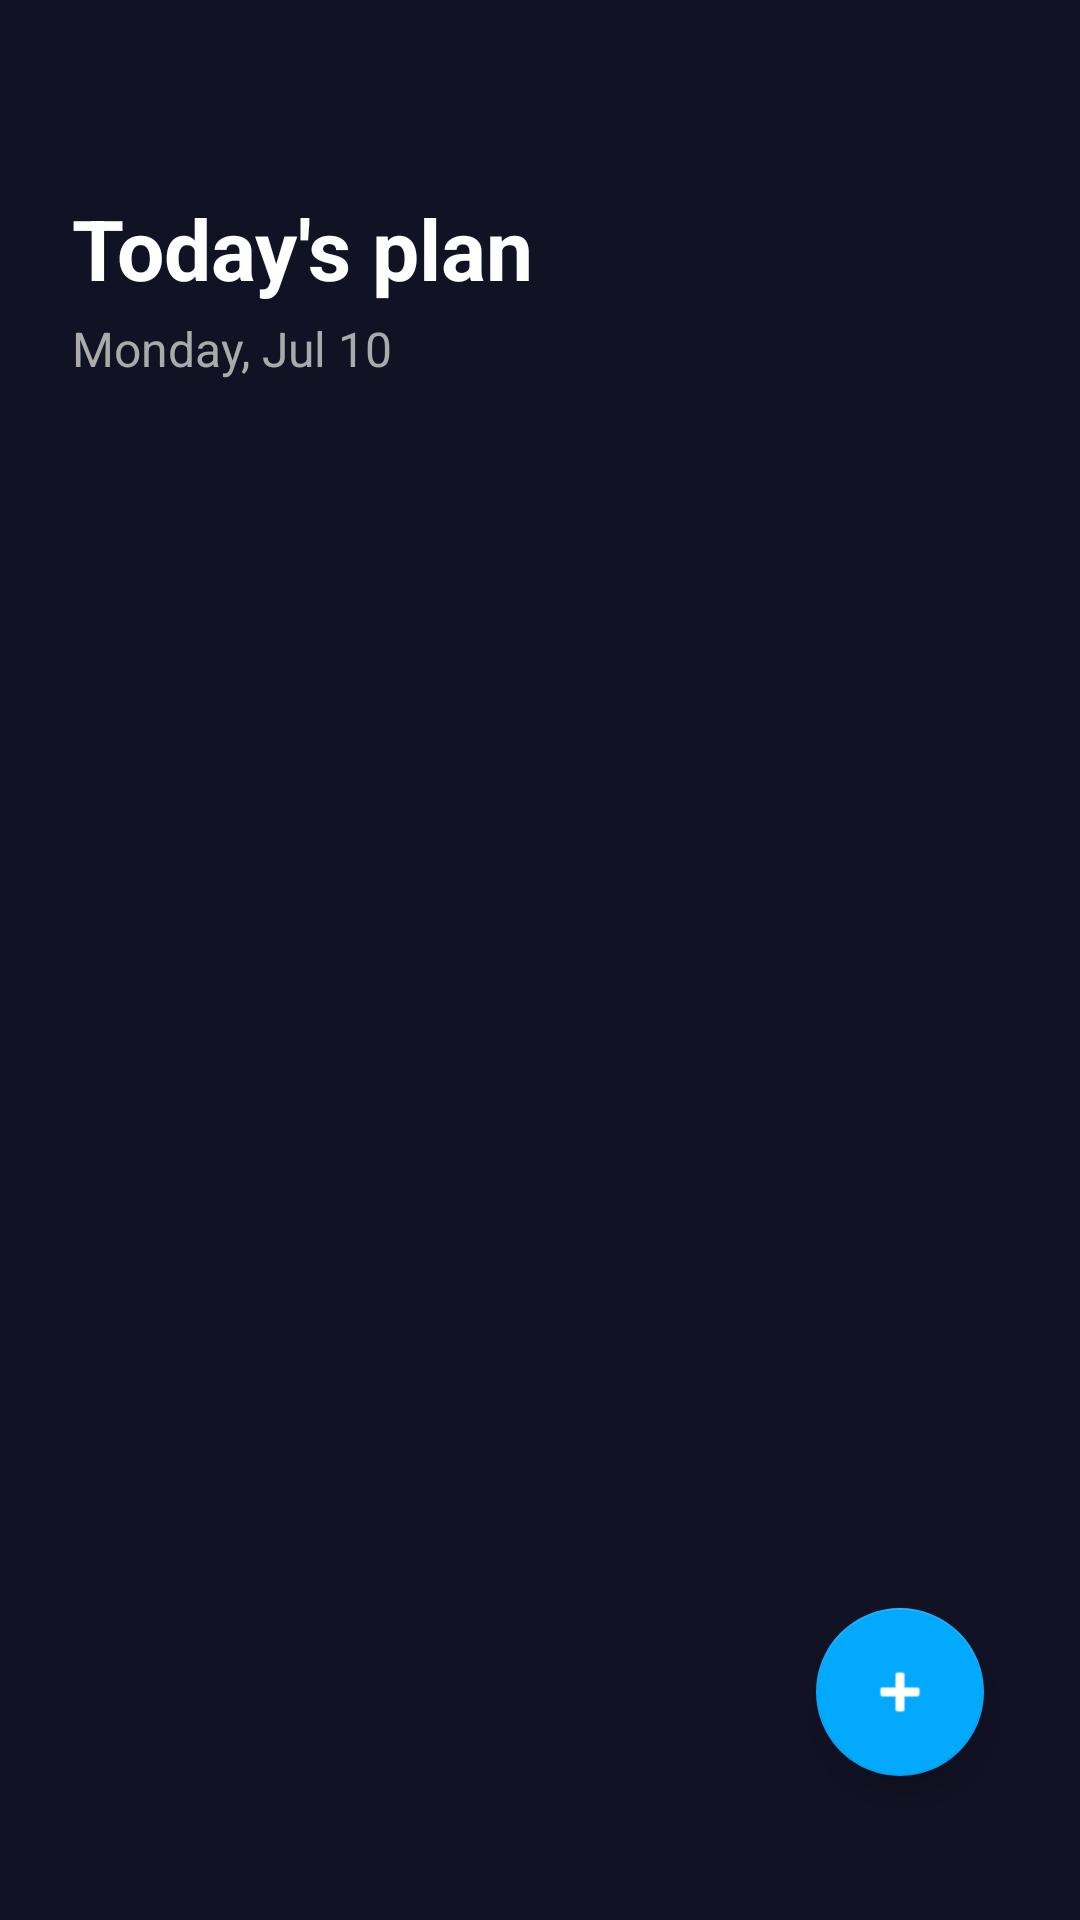

Screen size 1080 × 1920. Icon name, then its box in pixels as bbox=(x1, y1, x2, y2):
add: bbox=(816, 1608, 984, 1776)
